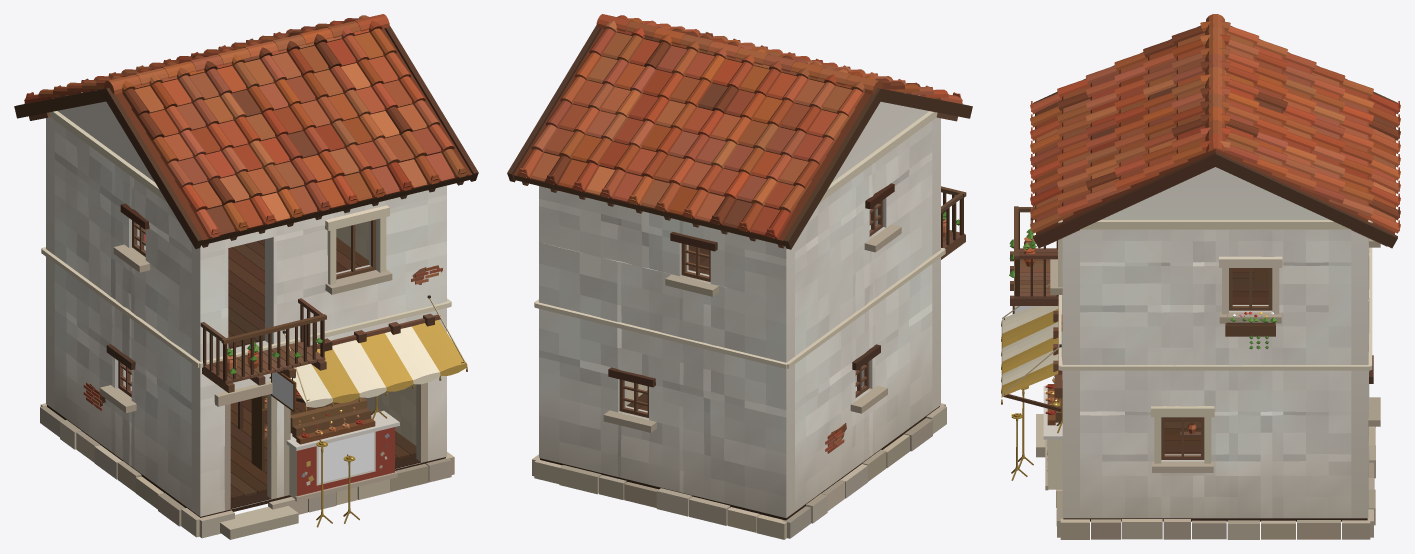
Rendered from shop_lamps.glb.
The picture shows the model from 3 angles, left to right: view 1: azimuth 30°, elevation 25°; view 2: azimuth 150°, elevation 25°; view 3: azimuth 270°, elevation 25°; orthographic projection.
Parts seen in each view (by area): view 1: House, Walls, Rooms; view 2: Walls, House, Rooms; view 3: House, Walls, Rooms.
Part boxes in pixels (bbox=[...]): House: bbox=[14, 14, 478, 539]; Walls: bbox=[46, 101, 446, 516]; Rooms: bbox=[130, 221, 416, 499]; Walls: bbox=[539, 102, 940, 517]; House: bbox=[507, 14, 972, 539]; Rooms: bbox=[626, 245, 709, 410]; House: bbox=[1001, 14, 1400, 539]; Walls: bbox=[1061, 167, 1369, 518]; Rooms: bbox=[1164, 268, 1268, 454].
Size of the model in its own units: 4.11 by 5.58 by 5.1.
Materials: 7 (7 with a texture image).
